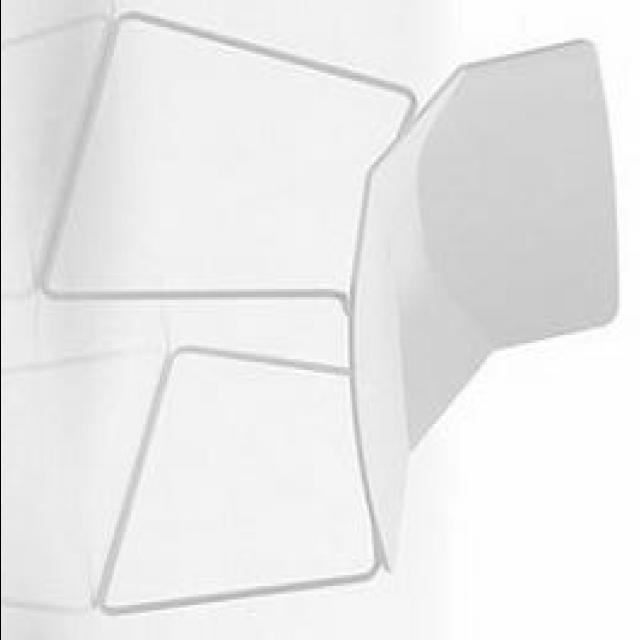chair: (33, 10, 618, 620)
